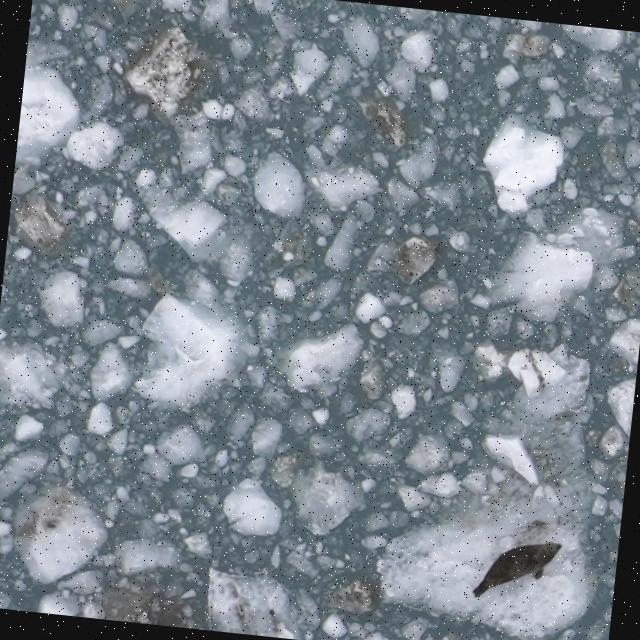seal: (466, 531, 568, 608)
